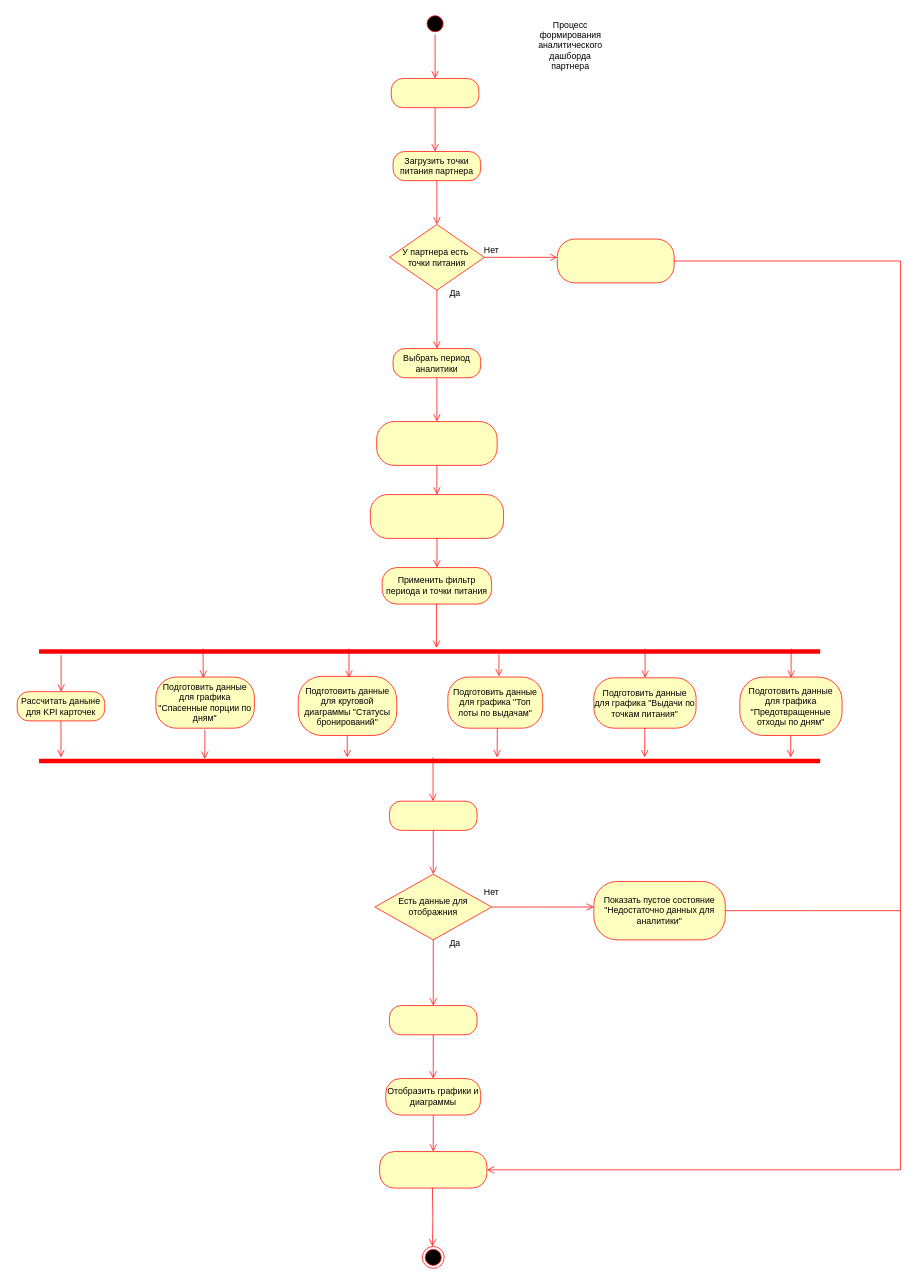
Some shapes in this 921 by 1281 pixel diagram are drawn without their labels. Here are the shapes that lost their labels. From the top down, the box of each, then its label:
(391, 78, 479, 108): Открыть раздел "Аналитика"
(557, 238, 674, 283): Показать пустое состояние "У вас нет точек питания"
(376, 421, 497, 465): Выбрать конкретную точку питания или все точки
(370, 494, 504, 538): Получить бронирования по точками питания партнера
(389, 800, 477, 830): Сформировать дашборд
(389, 1005, 477, 1035): Отбразить KPI карточки
(379, 1151, 487, 1188): Завершить отображение раздела
